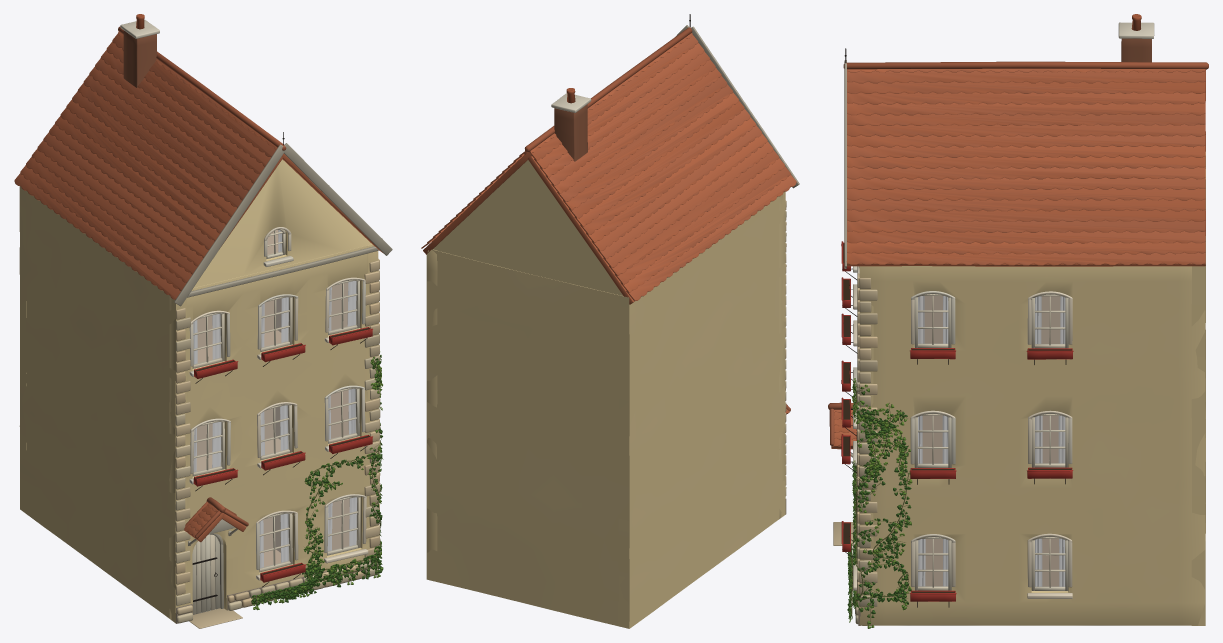
Rendered from GateStreet_Bend2.glb.
The picture shows the model from 3 angles, left to right: view 1: azimuth 30°, elevation 25°; view 2: azimuth 150°, elevation 25°; view 3: azimuth 270°, elevation 25°; orthographic projection. The views are drawn at different scales.
Visible parts, largest first — view 1: Sammel Putz, Sammel Stein, Sammel Lack, Glas, Sammel Putz innen, Sammel Pflanze, Vorhang Leinen, Sammel Ziegel; view 2: Sammel Putz, Sammel Stein, Sammel Ziegel, Sammel Lack; view 3: Sammel Putz, Sammel Stein, Sammel Lack, Glas, Sammel Pflanze, Sammel Putz innen, Vorhang Leinen, Sammel Ziegel.
Boxes of the visible parts, x1=… form: Sammel Putz: x1=19, y1=14, x2=381, y2=623; Sammel Stein: x1=14, y1=26, x2=383, y2=628; Sammel Lack: x1=174, y1=143, x2=392, y2=614; Glas: x1=193, y1=230, x2=357, y2=568; Sammel Putz innen: x1=196, y1=230, x2=349, y2=566; Sammel Pflanze: x1=251, y1=351, x2=383, y2=610; Vorhang Leinen: x1=193, y1=230, x2=356, y2=567; Sammel Ziegel: x1=123, y1=30, x2=156, y2=87; Sammel Putz: x1=426, y1=88, x2=786, y2=628; Sammel Stein: x1=421, y1=27, x2=796, y2=495; Sammel Ziegel: x1=554, y1=104, x2=587, y2=161; Sammel Lack: x1=675, y1=25, x2=799, y2=188; Sammel Putz: x1=843, y1=14, x2=1205, y2=625; Sammel Stein: x1=828, y1=61, x2=1208, y2=624; Sammel Lack: x1=841, y1=60, x2=1073, y2=601; Glas: x1=918, y1=296, x2=1064, y2=586; Sammel Pflanze: x1=847, y1=378, x2=912, y2=628; Sammel Putz innen: x1=922, y1=296, x2=1060, y2=586; Vorhang Leinen: x1=918, y1=296, x2=1065, y2=586; Sammel Ziegel: x1=1121, y1=38, x2=1151, y2=62.
Bounding box in the file's own units: 6.64 × 14.05 × 8.8.
